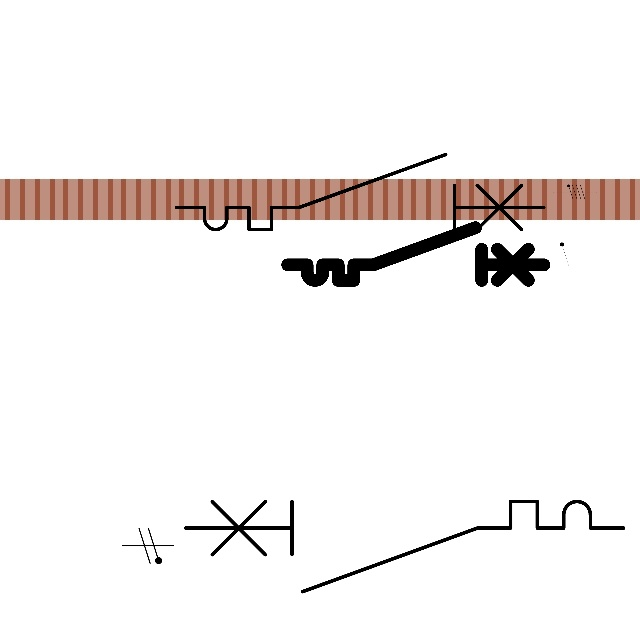interruptor_termomagnetico: (174, 490, 635, 603), (167, 145, 553, 239), (281, 221, 551, 287)
